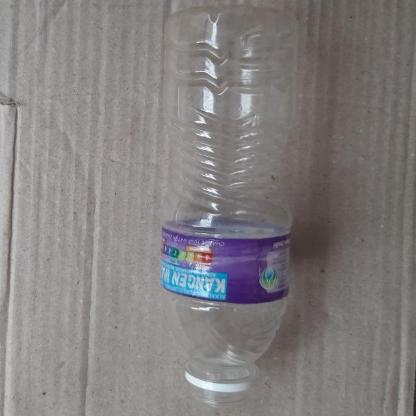Plastic Bottle: (160, 2, 300, 406)
